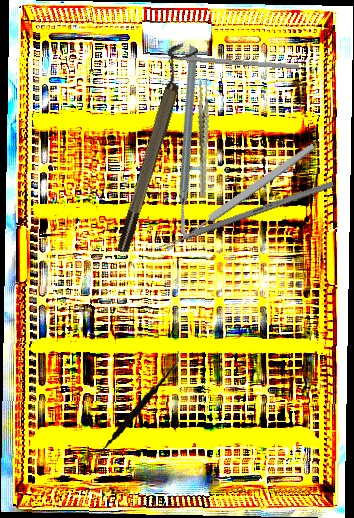Chopper: (109, 44, 273, 242)
Fixation Ring: (104, 39, 199, 256)
Pusher: (145, 180, 335, 255), (145, 53, 299, 70)
Spatula Surgical: (93, 342, 180, 476)
Surgical Spoon: (163, 141, 317, 254)
Tissue Forceps: (177, 77, 229, 198)
